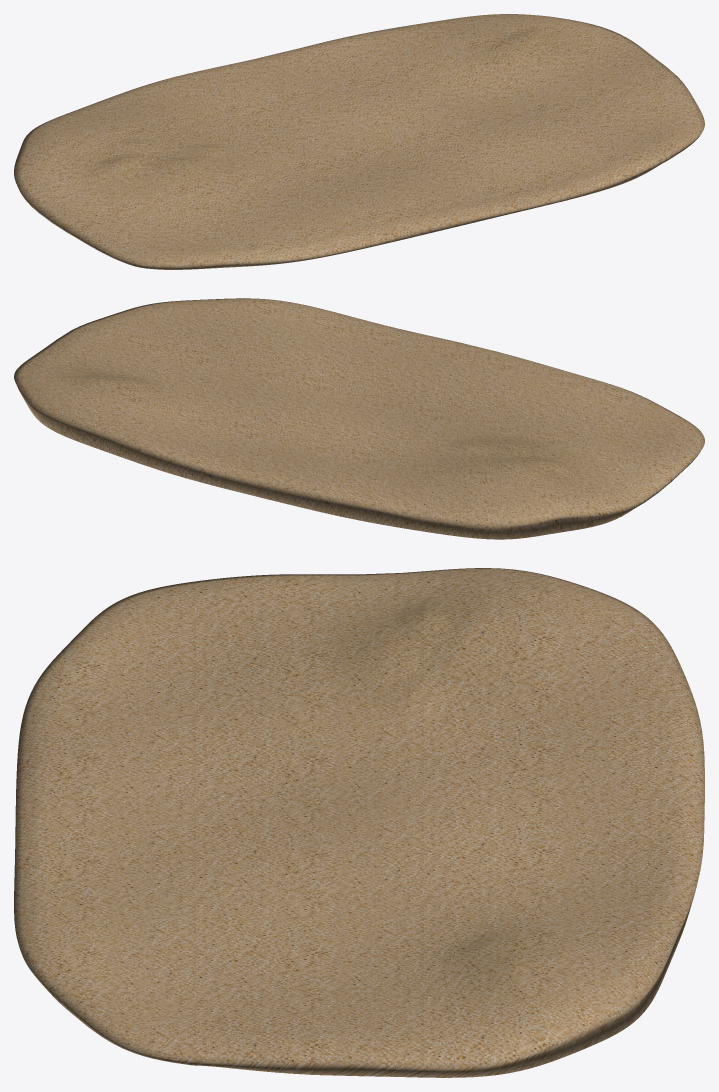
The picture shows the model from 3 angles, top to bottom: view 1: azimuth 30°, elevation 25°; view 2: azimuth 150°, elevation 25°; view 3: azimuth 270°, elevation 25°; orthographic projection. The views are drawn at different scales.
Visible parts, largest first — view 1: Sand_Riverbed; view 2: Sand_Riverbed; view 3: Sand_Riverbed.
Part boxes in pixels (x1=…): Sand_Riverbed: x1=14, y1=14, x2=704, y2=269; Sand_Riverbed: x1=14, y1=298, x2=704, y2=539; Sand_Riverbed: x1=14, y1=568, x2=704, y2=1077.
Bounding box in the file's own units: 10.84 × 0.4845 × 6.37.
Materials: 1 (1 with a texture image).
